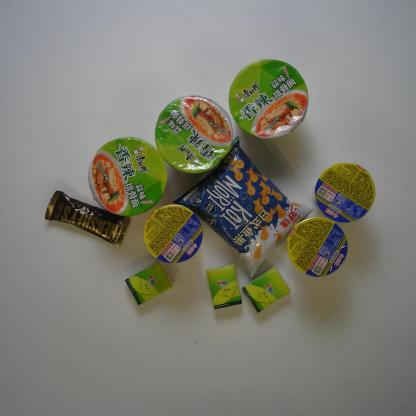Chocolate: (42, 185, 132, 249)
Instant Noodles: (86, 134, 172, 220), (227, 57, 312, 142), (152, 94, 234, 178), (312, 160, 378, 225), (285, 217, 351, 280), (141, 203, 205, 265)
Puffed Food: (173, 135, 316, 280)
Tissue: (238, 265, 298, 315), (123, 260, 177, 308), (202, 262, 244, 312)
